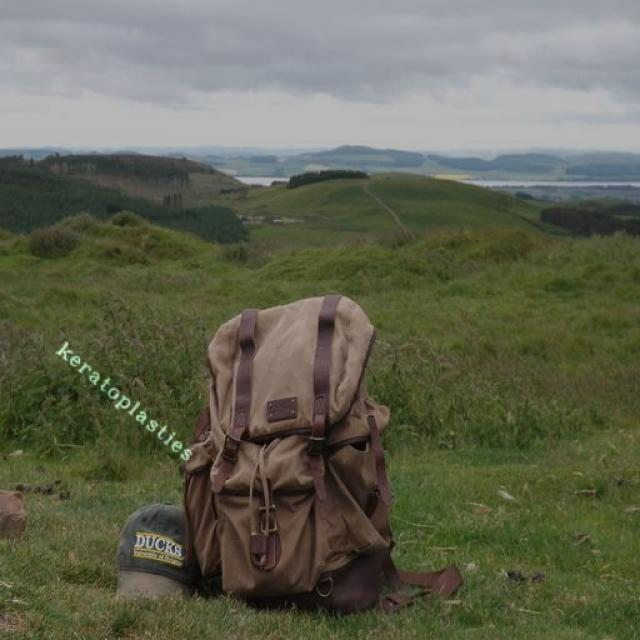watermark: (50, 335, 202, 465)
